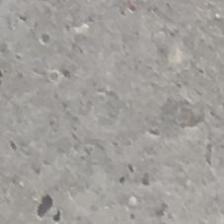Non_Crack: (64, 8, 194, 224)
